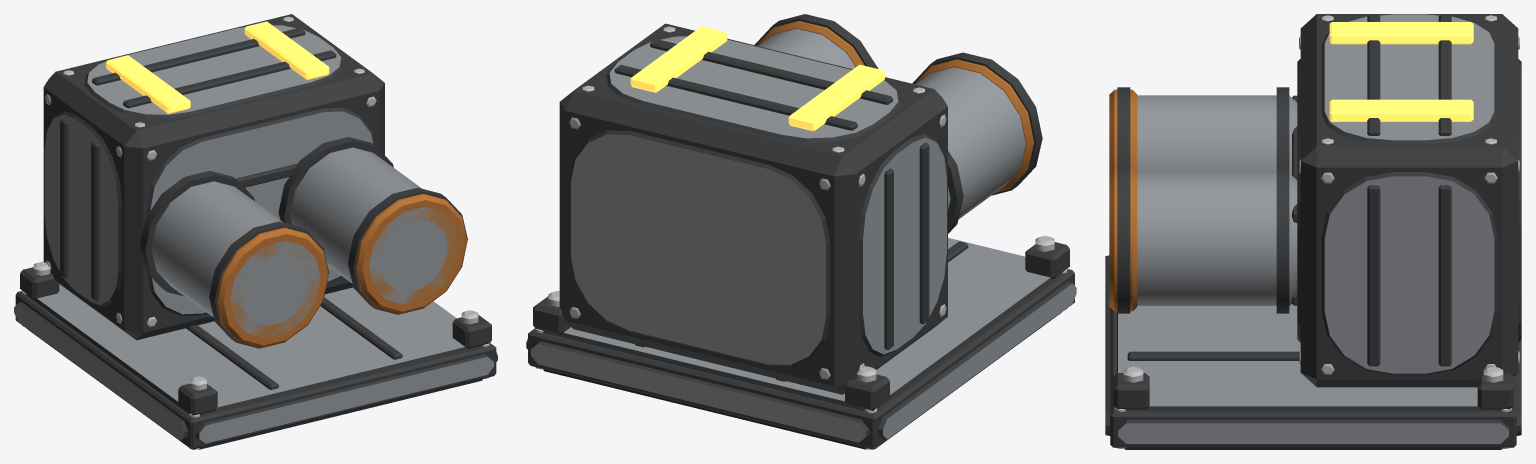
The model's file is R4X_DoubleShotPassive.fbx.
3 views of the same model, side by side, from view 1: azimuth 30°, elevation 25°; view 2: azimuth 150°, elevation 25°; view 3: azimuth 270°, elevation 25° (orthographic). The views are drawn at different scales.
Visible parts, largest first — view 1: R4X_DoubleShotPassive_Body; view 2: R4X_DoubleShotPassive_Body; view 3: R4X_DoubleShotPassive_Body.
Boxes of the visible parts, <box> form: R4X_DoubleShotPassive_Body: <box>14,14,497,449</box>; R4X_DoubleShotPassive_Body: <box>526,14,1076,449</box>; R4X_DoubleShotPassive_Body: <box>1105,14,1521,449</box>.
Size of the model in its own units: 0.52 by 0.415 by 0.52.
